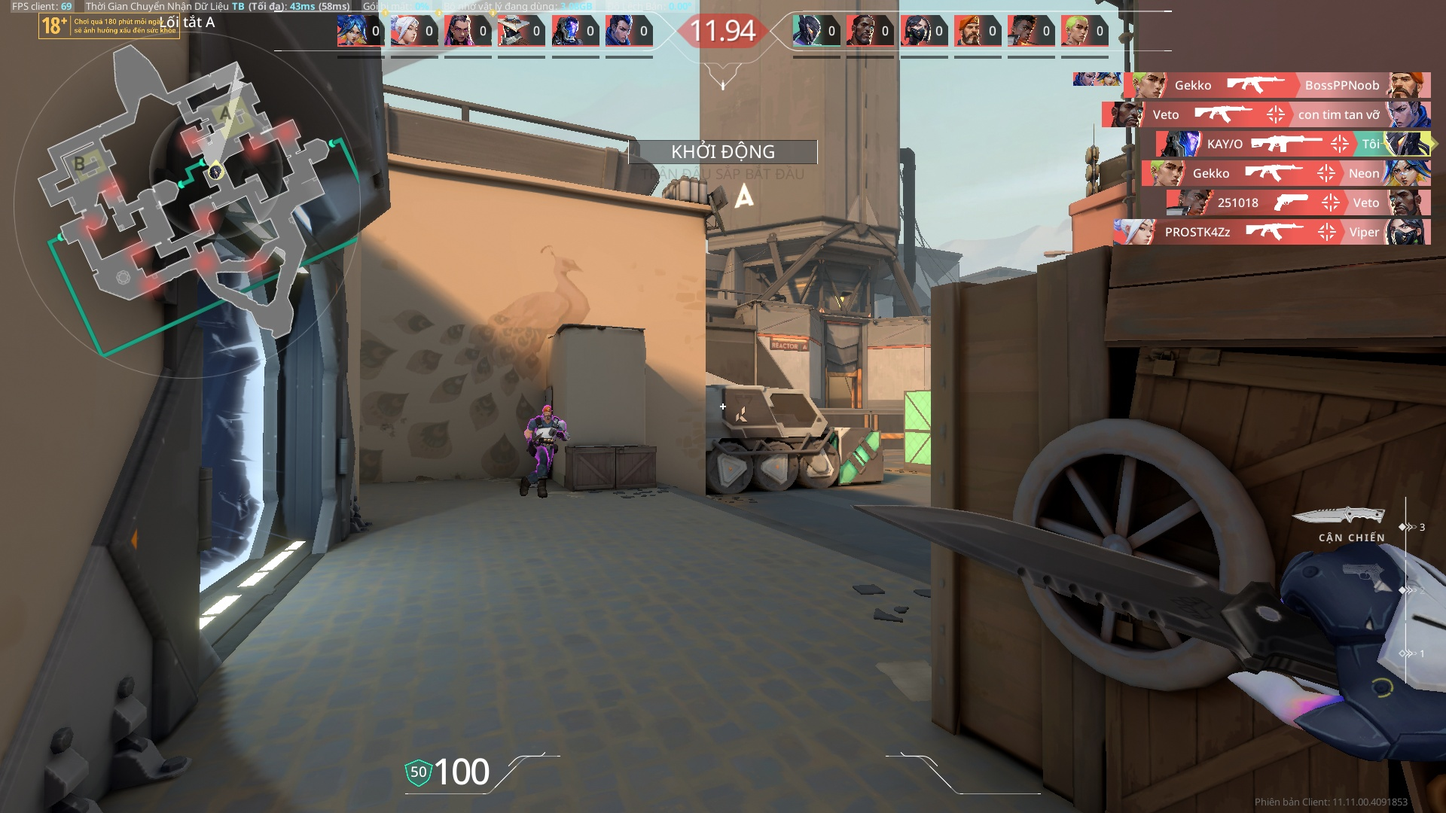body: (532, 413, 563, 444)
head: (538, 400, 554, 416)
